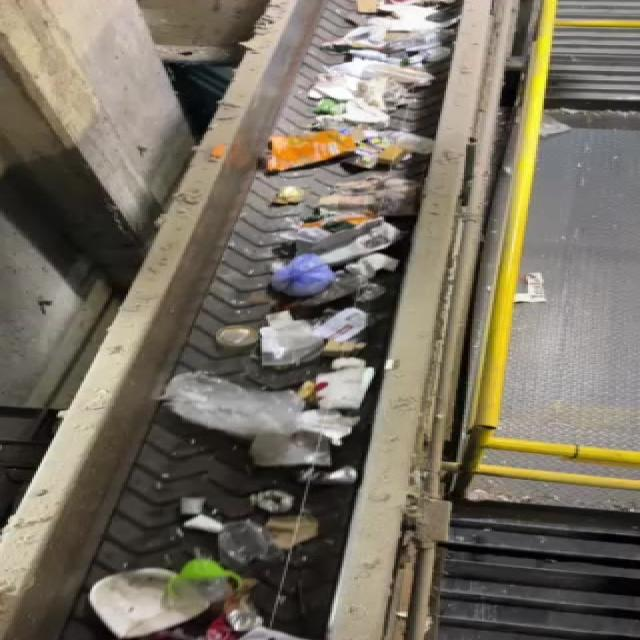pet: (356, 112, 469, 175), (171, 555, 253, 610)
ps: (87, 567, 216, 639)
